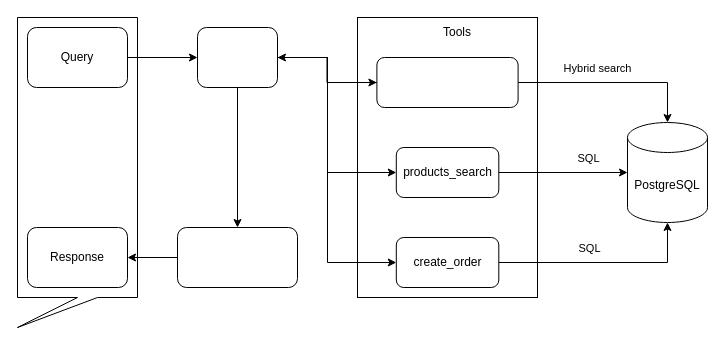
The diagram is 725 pixels wide and 345 high, and some of its shapes have lost their labels. Each missing label, with the centre of its shape:
"Gemini" belongs at [237,257].
"related_products_search" belongs at [447,82].
"Retrieval Agent" belongs at [237,57].
